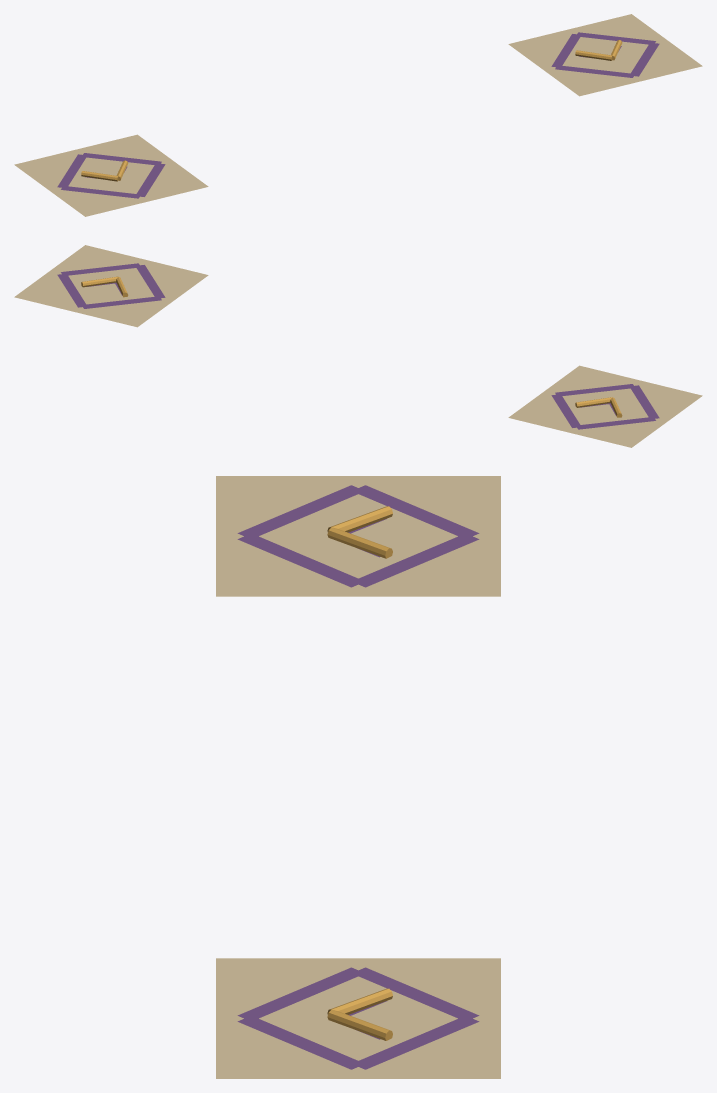
The model's file is route-temple_s-pyramid_s-fold.glb.
The picture shows the model from 3 angles, top to bottom: view 1: azimuth 30°, elevation 25°; view 2: azimuth 150°, elevation 25°; view 3: azimuth 270°, elevation 25°; orthographic projection. The views are drawn at different scales.
Parts seen in each view (by area): view 1: Surveyed floor · route-temple_s-pyramid_s-fold; view 2: Surveyed floor · route-temple_s-pyramid_s-fold; view 3: Surveyed floor · route-temple_s-pyramid_s-fold.
Boxes of the visible parts, x1=… form: Surveyed floor · route-temple_s-pyramid_s-fold: x1=14, y1=14, x2=702, y2=216; Surveyed floor · route-temple_s-pyramid_s-fold: x1=14, y1=245, x2=702, y2=447; Surveyed floor · route-temple_s-pyramid_s-fold: x1=216, y1=476, x2=500, y2=1078.
Size of the model in its own units: 20 by 0.17 by 4.
